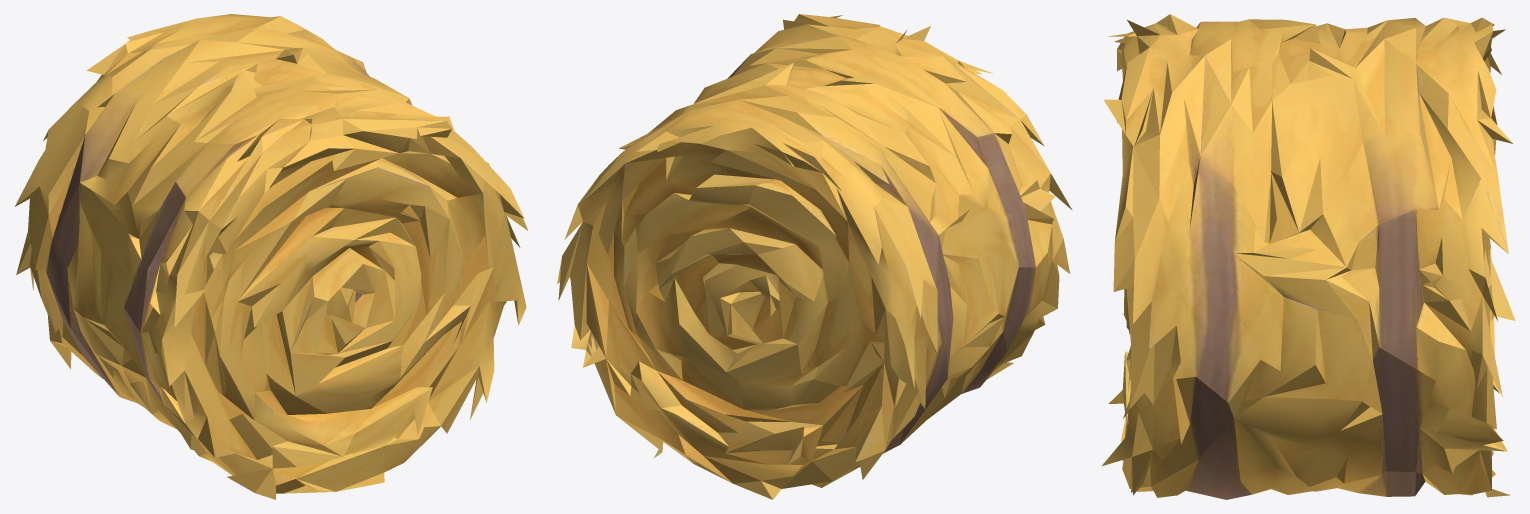
The model's file is farm-hay-bale.glb.
3 views of the same model, side by side, from view 1: azimuth 30°, elevation 25°; view 2: azimuth 150°, elevation 25°; view 3: azimuth 270°, elevation 25° (orthographic). The views are drawn at different scales.
Parts seen in each view (by area): view 1: farm-hay-bale-fit; view 2: farm-hay-bale-fit; view 3: farm-hay-bale-fit.
Boxes of the visible parts, x1,y1,x2,y2 form: farm-hay-bale-fit: (15, 14, 528, 499); farm-hay-bale-fit: (557, 14, 1072, 499); farm-hay-bale-fit: (1102, 14, 1515, 499).
Size of the model in its own units: 1.03 by 1 by 0.8592.
Materials: 1 (1 with a texture image).
